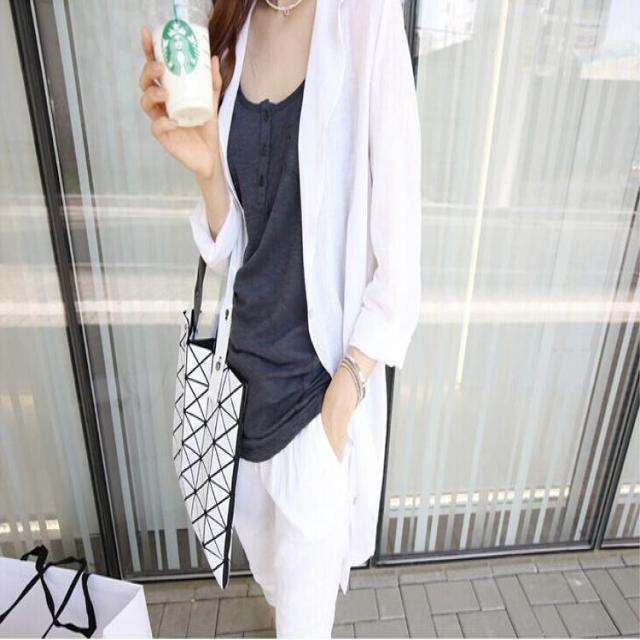long sleeve outwear: (207, 1, 257, 213), (201, 207, 233, 438)
trousers: (222, 358, 346, 639)
